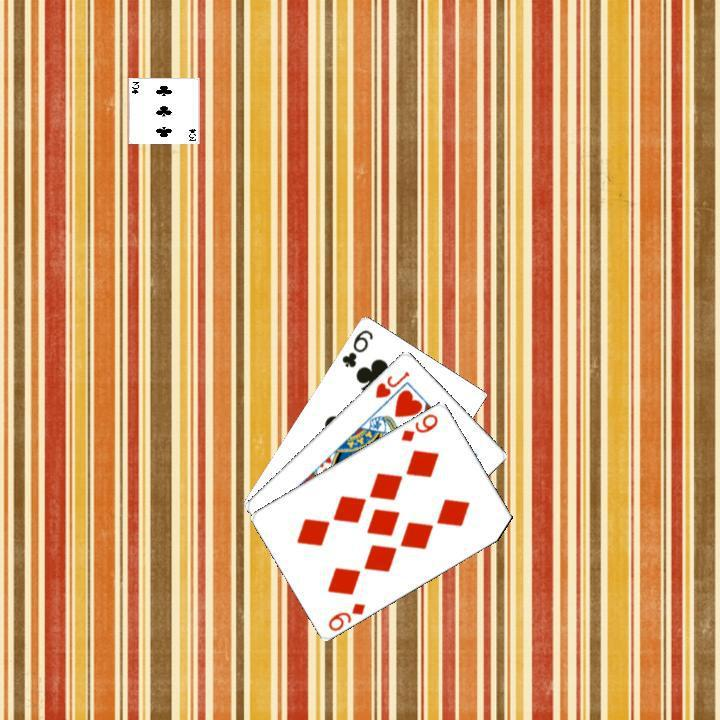6: (337, 325, 375, 369)
9: (397, 409, 440, 443), (324, 598, 367, 632)
J: (371, 366, 412, 400)
